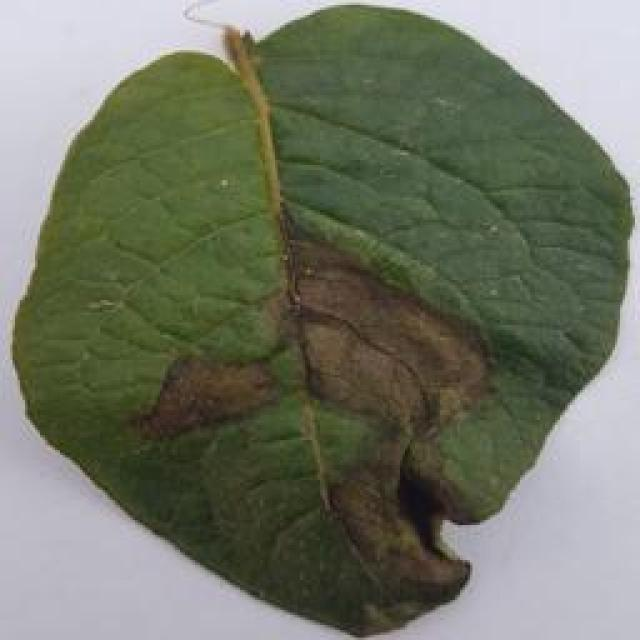Potato_Late_Blight: (24, 5, 640, 627)
